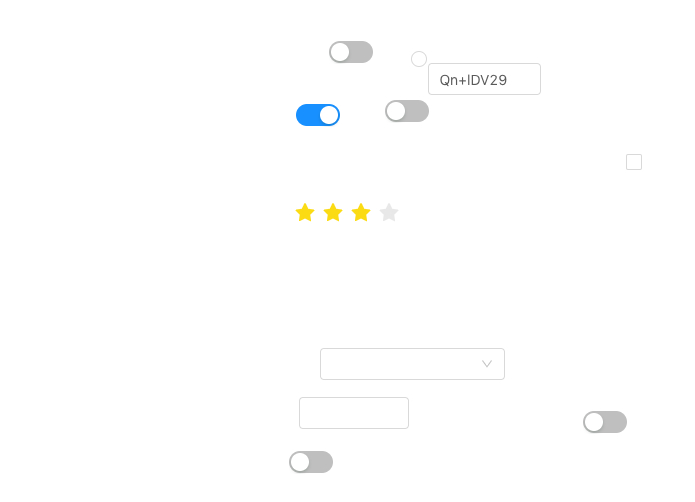Checkbox: (626, 151, 642, 172)
Input: (428, 63, 541, 95), (299, 397, 409, 429)
Radio: (411, 48, 427, 68)
Rate: (295, 196, 415, 228)
Select: (320, 348, 505, 380)
Switch: (296, 103, 340, 127), (385, 99, 429, 123), (329, 40, 373, 64), (583, 410, 627, 434), (289, 450, 333, 474)
